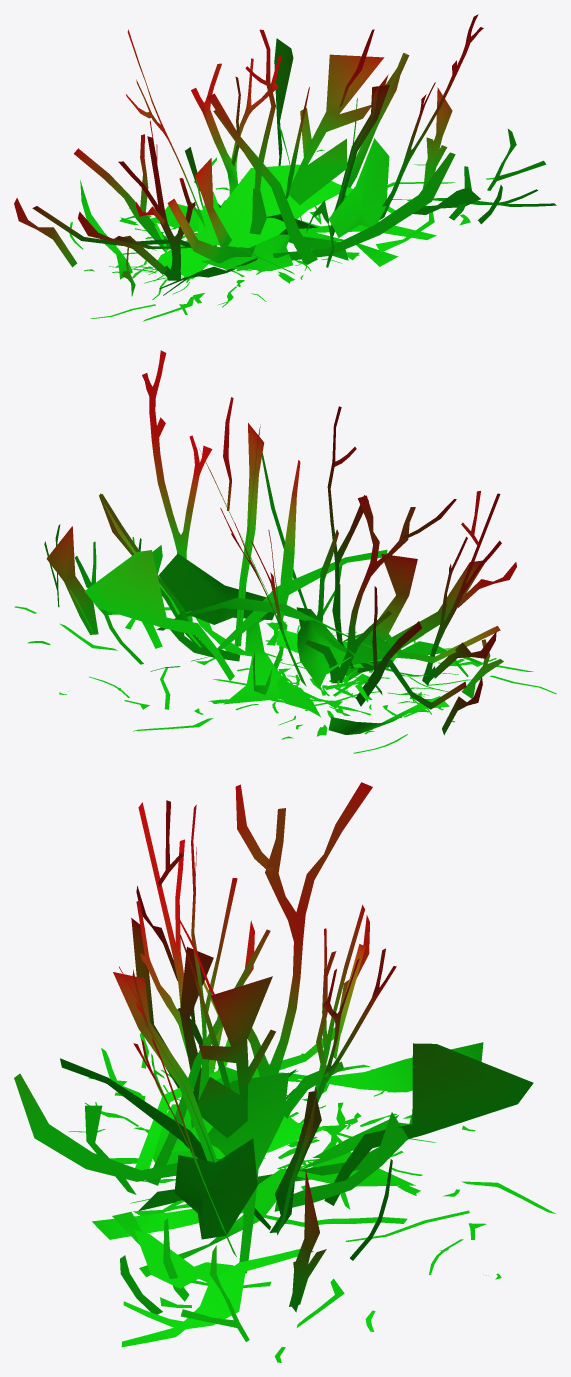
Rendered from Dead Shrubs_LOD1_Var7_vdknbbuha.fbx.
3 views of the same model, one above another, from view 1: azimuth 30°, elevation 25°; view 2: azimuth 150°, elevation 25°; view 3: azimuth 270°, elevation 25° (orthographic). The views are drawn at different scales.
Visible parts, largest first — view 1: _799p_Var7_LOD1; view 2: _799p_Var7_LOD1; view 3: _799p_Var7_LOD1.
Part boxes in pixels (<box>): _799p_Var7_LOD1: <box>14,14,556,321</box>; _799p_Var7_LOD1: <box>14,350,556,753</box>; _799p_Var7_LOD1: <box>14,782,555,1362</box>.
Size of the model in its own units: 101 by 50.27 by 66.81.
